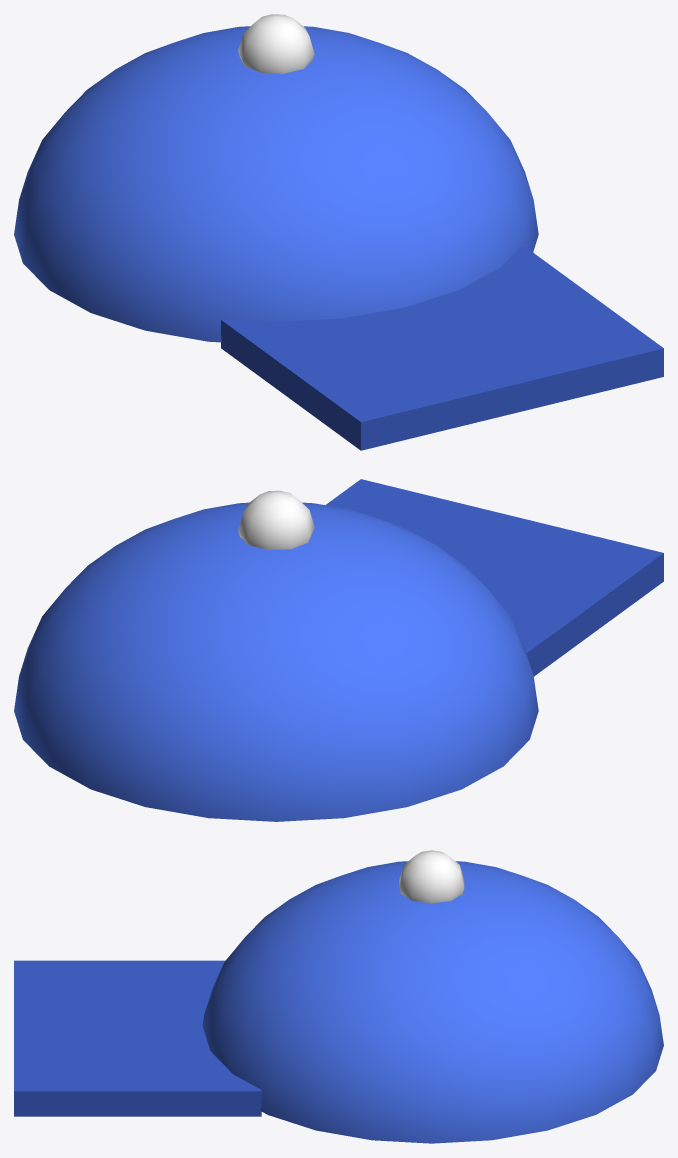
File: cap.glb
3 views of the same model, one above another, from view 1: azimuth 30°, elevation 25°; view 2: azimuth 150°, elevation 25°; view 3: azimuth 270°, elevation 25° (orthographic). The views are drawn at different scales.
Parts seen in each view (by area): view 1: cap-0, cap-1, cap-2; view 2: cap-0, cap-1, cap-2; view 3: cap-0, cap-1, cap-2.
Part boxes in pixels (left/top/right/bottom): cap-0: left=14, top=26, right=538, bottom=342; cap-1: left=221, top=246, right=663, bottom=450; cap-2: left=238, top=14, right=314, bottom=73; cap-0: left=14, top=502, right=538, bottom=821; cap-1: left=325, top=479, right=663, bottom=676; cap-2: left=238, top=490, right=314, bottom=550; cap-0: left=202, top=861, right=663, bottom=1143; cap-1: left=14, top=960, right=261, bottom=1116; cap-2: left=399, top=850, right=464, bottom=903.
Bounding box in the file's own units: 0.3 × 0.141 × 0.42.
